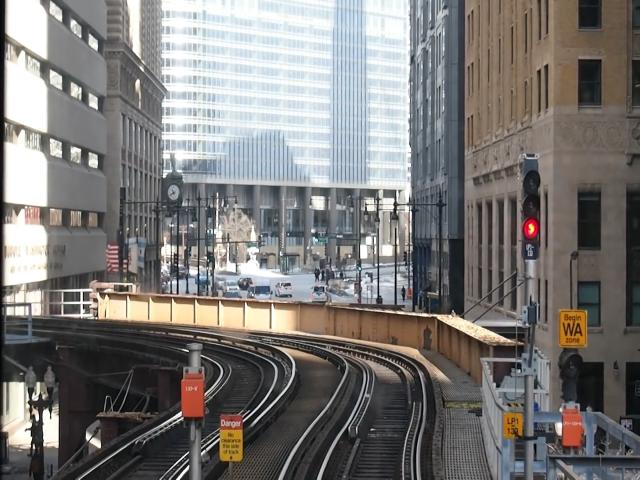signal light: (520, 168, 546, 262)
